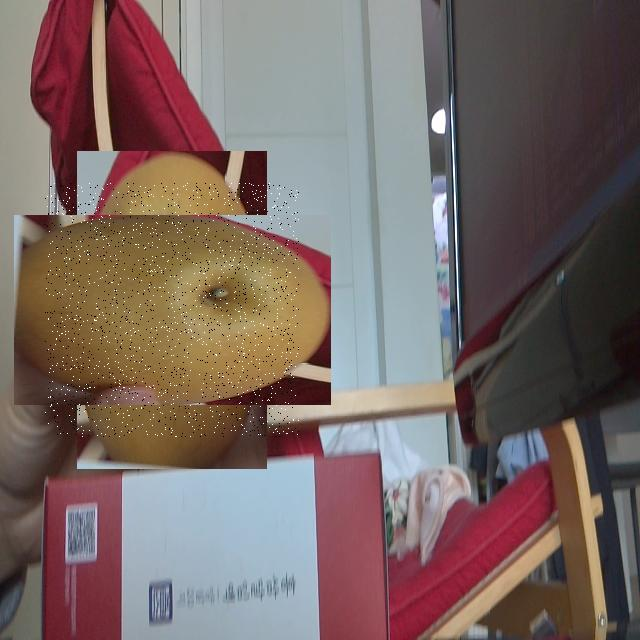pear: (45, 183, 299, 437)
